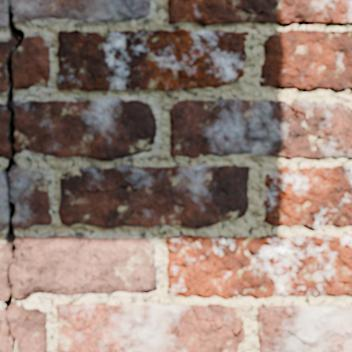brick: (59, 164, 248, 228), (167, 235, 351, 298), (57, 29, 247, 90), (170, 99, 351, 157), (57, 304, 243, 351), (264, 165, 351, 228), (260, 30, 351, 89), (168, 0, 351, 24), (258, 306, 351, 351)
broken_brick: (11, 235, 157, 300), (13, 97, 157, 161), (10, 0, 151, 22), (10, 166, 52, 228), (13, 35, 50, 89), (8, 304, 47, 351), (0, 38, 14, 92), (0, 242, 10, 301), (0, 102, 9, 159), (0, 309, 9, 351), (0, 178, 7, 231), (0, 0, 6, 27)
crack: (0, 0, 24, 351), (191, 307, 241, 351)
